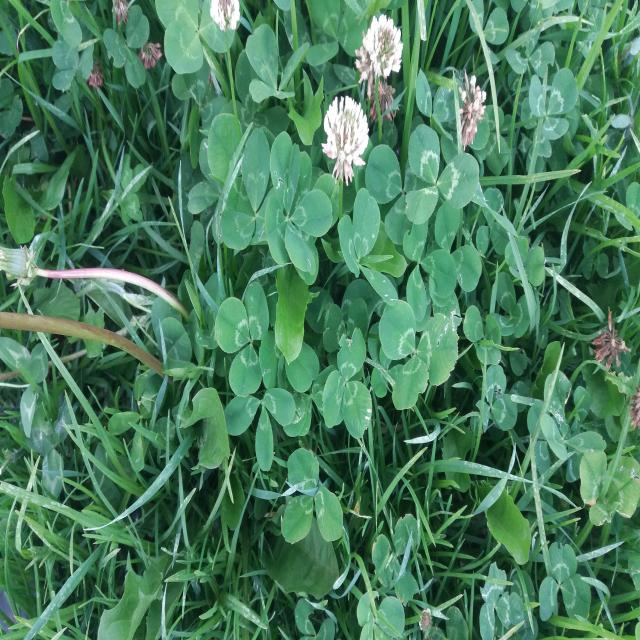Four Leaf Clover: (265, 131, 333, 276)
